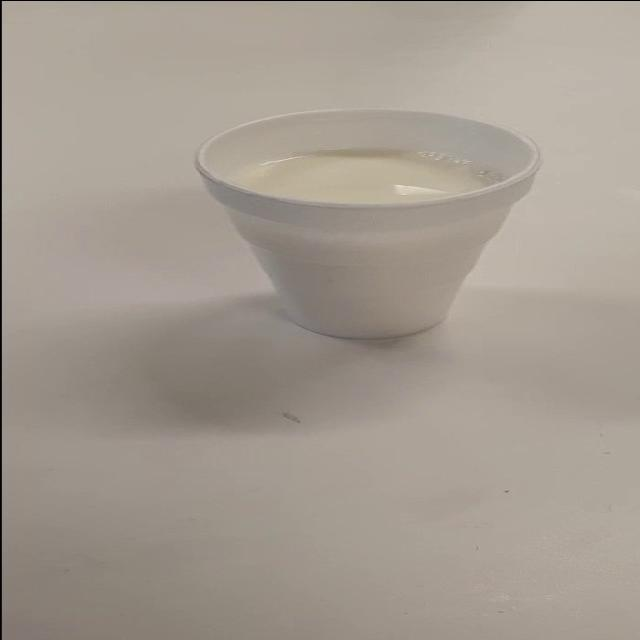Milk: (172, 99, 568, 355)
